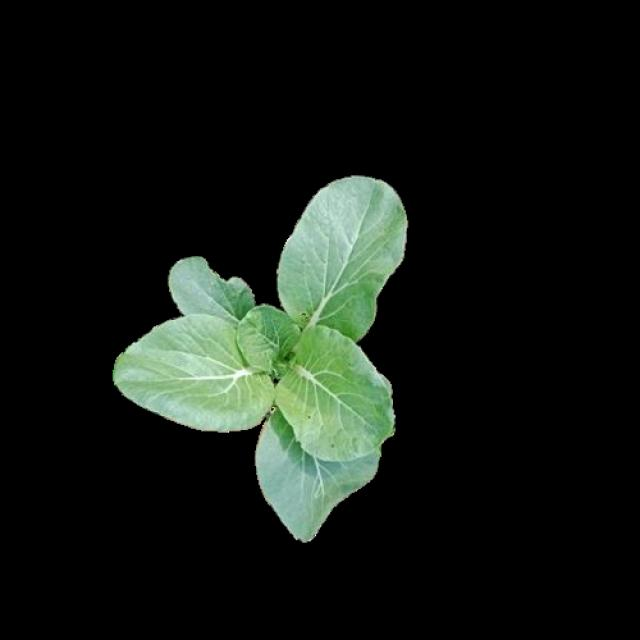healthy: (112, 174, 408, 542)
not-mature: (114, 177, 411, 544)
